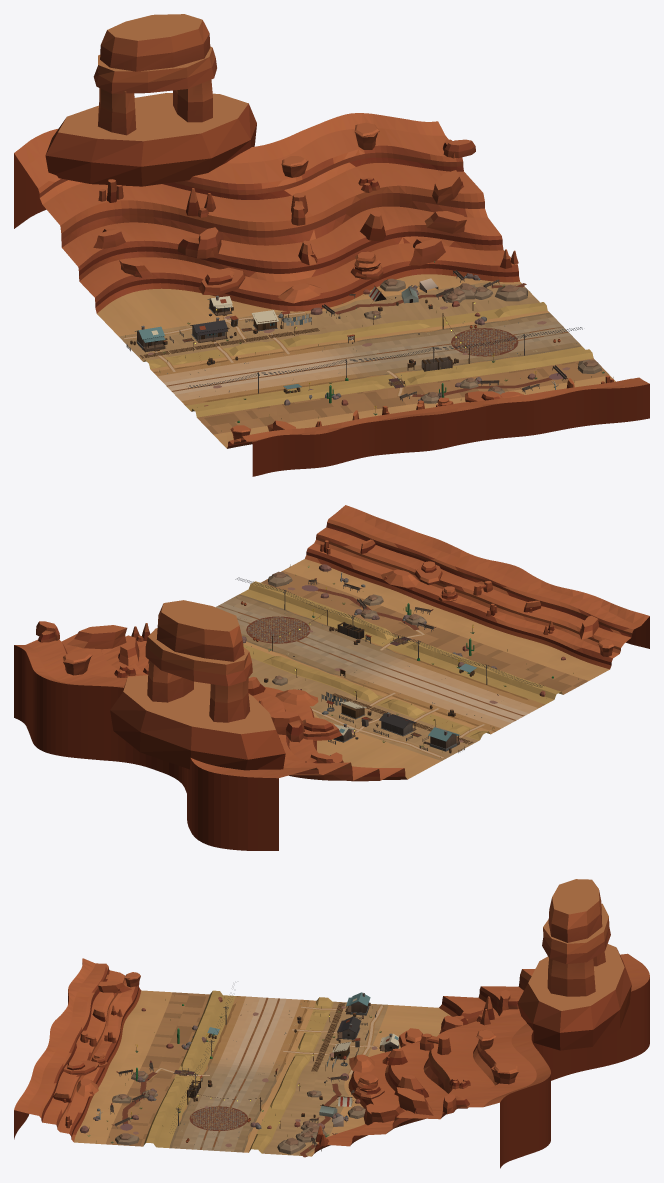
Rendered from chunk_section1_b.glb.
The picture shows the model from 3 angles, top to bottom: view 1: azimuth 30°, elevation 25°; view 2: azimuth 150°, elevation 25°; view 3: azimuth 270°, elevation 25°; orthographic projection. The views are drawn at different scales.
Visible parts, largest first — view 1: chunk_section1_b; view 2: chunk_section1_b; view 3: chunk_section1_b.
Boxes of the visible parts, x1,y1,x2,y2 form: chunk_section1_b: (14,14,649,476); chunk_section1_b: (14,505,649,850); chunk_section1_b: (14,879,649,1168).
Size of the model in its own units: 449 by 195 by 656.
